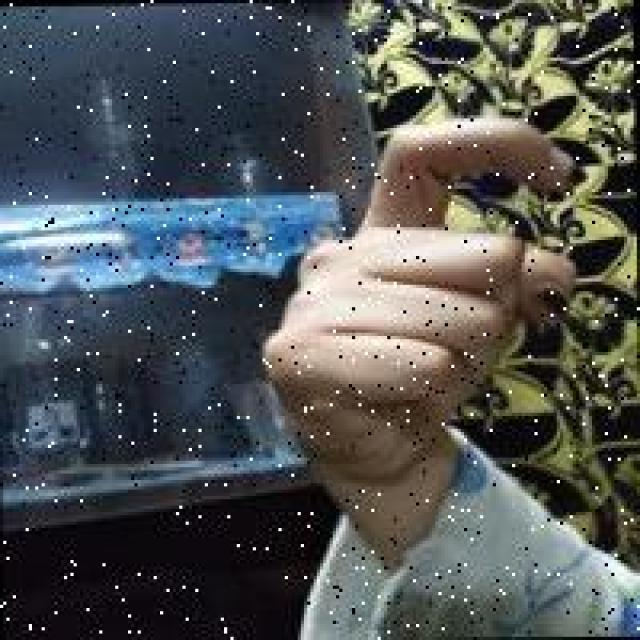X: (256, 107, 598, 488)
